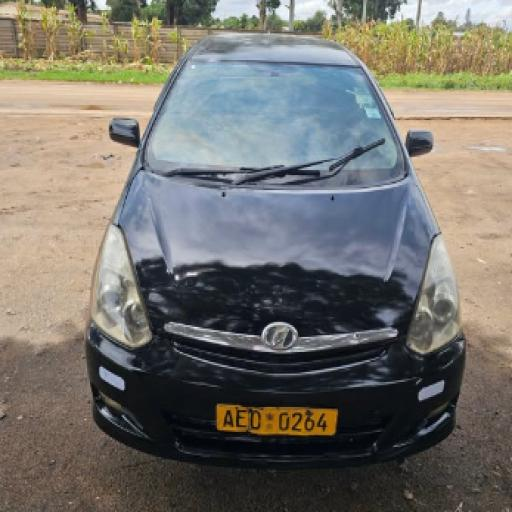number-plates: (215, 400, 333, 432)
